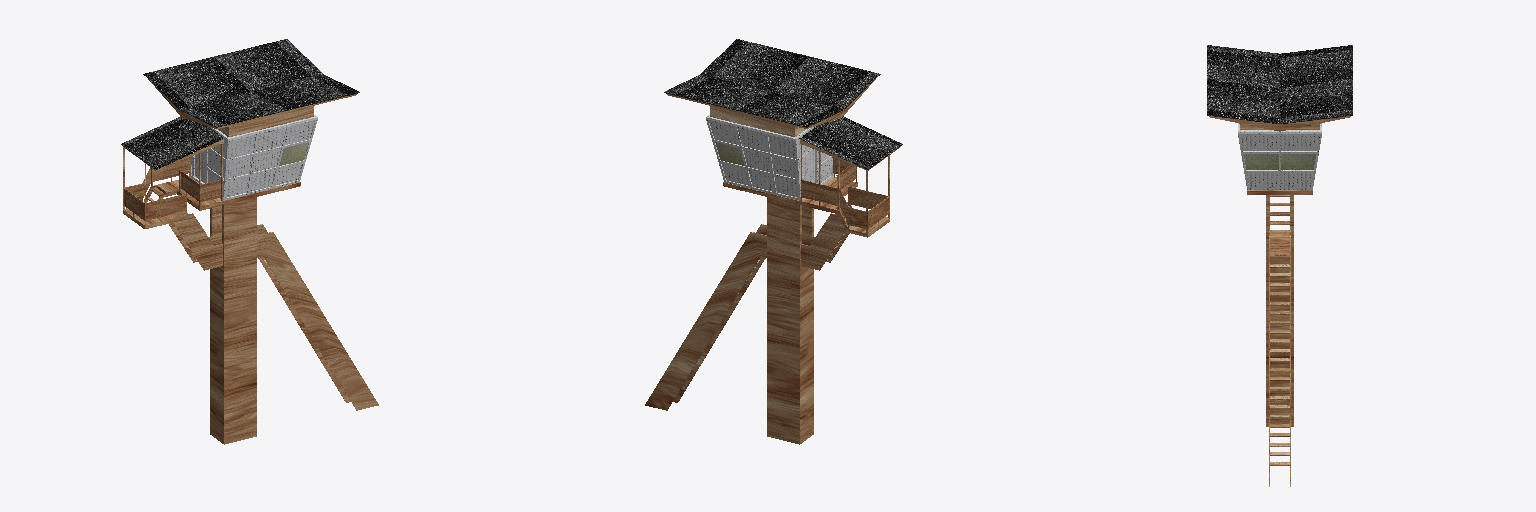
3 views of the same model, side by side, from view 1: azimuth 30°, elevation 25°; view 2: azimuth 150°, elevation 25°; view 3: azimuth 270°, elevation 25° (orthographic).
Parts seen in each view (by area): view 1: House; view 2: House; view 3: House.
Part boxes in pixels (x1,y1,x2,y2): House: (121, 39, 378, 444); House: (645, 39, 902, 444); House: (1207, 45, 1352, 486).
Size of the model in its own units: 6.49 by 9.17 by 3.49.
Materials: 4 (4 with a texture image).